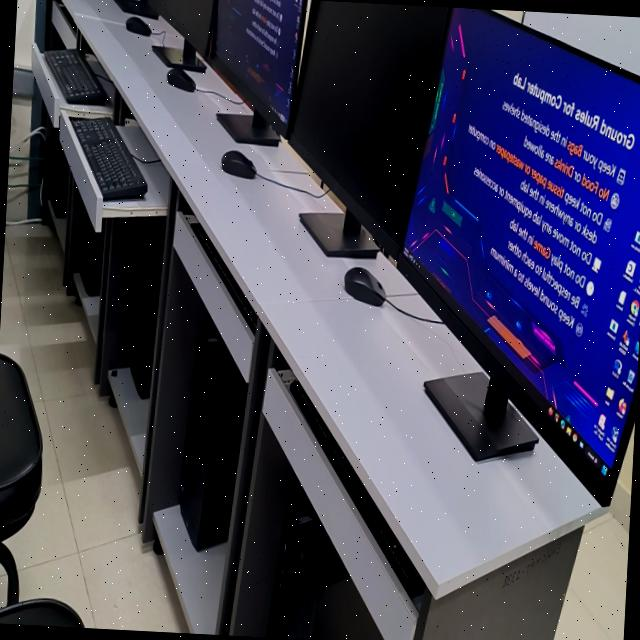Chair: (0, 353, 42, 603), (0, 597, 84, 628)
Cpu: (265, 509, 383, 640), (178, 336, 247, 549), (128, 222, 163, 397), (78, 213, 103, 293), (48, 129, 69, 217)
Keyboard: (70, 119, 146, 199), (43, 48, 105, 104)
Monitor: (397, 6, 640, 504), (287, 0, 449, 257), (213, 0, 305, 126), (147, 0, 213, 54)
Mouse: (344, 266, 385, 305), (221, 149, 255, 178), (166, 67, 195, 90), (125, 16, 151, 35)
